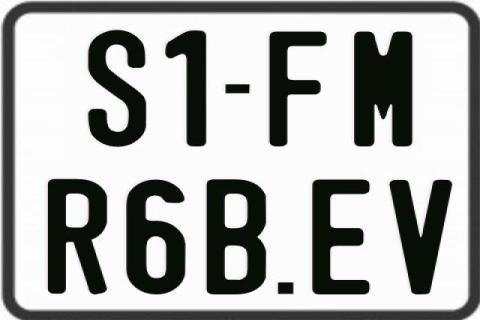0: (125, 178, 185, 296), (163, 30, 206, 150)
B: (205, 178, 267, 294)
E: (310, 178, 369, 296)
F: (266, 29, 326, 145)
M: (352, 29, 416, 145)
R: (45, 179, 106, 295)
S: (86, 28, 145, 146)
V: (389, 180, 454, 299)
